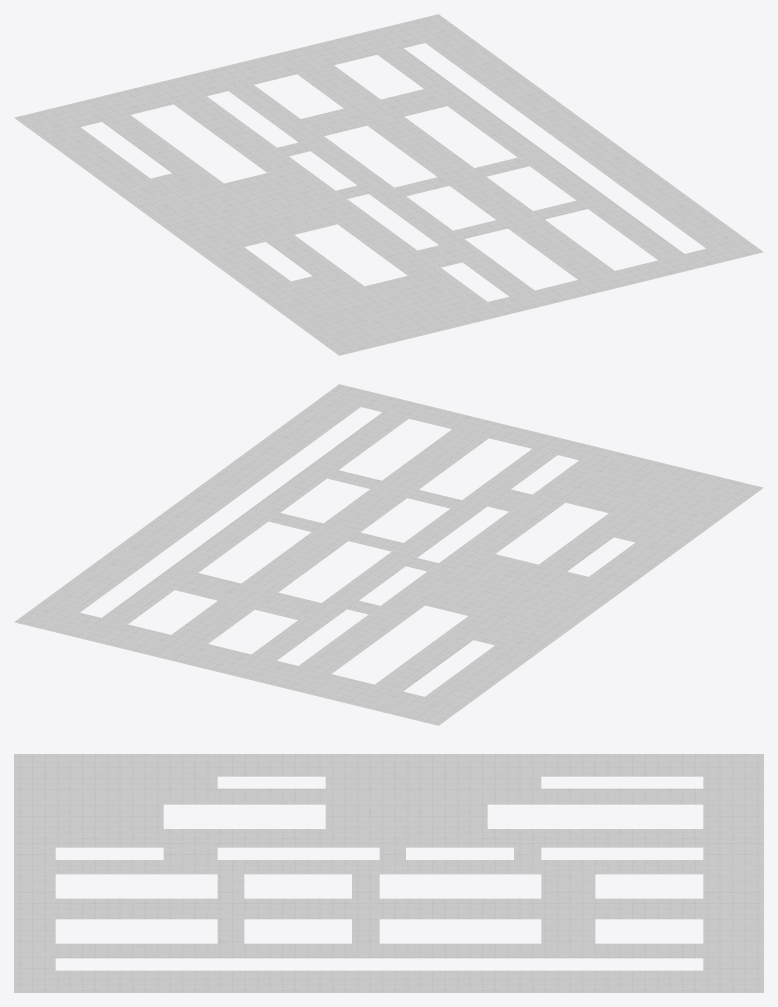
The model's file is Floor.glb.
3 views of the same model, one above another, from view 1: azimuth 30°, elevation 25°; view 2: azimuth 150°, elevation 25°; view 3: azimuth 270°, elevation 25° (orthographic). The views are drawn at different scales.
Visible parts, largest first — view 1: floor.001; view 2: floor.001; view 3: floor.001.
Part boxes in pixels (<box>): floor.001: <box>14,14,763,355</box>; floor.001: <box>14,384,763,725</box>; floor.001: <box>14,754,763,992</box>.
Bounding box in the file's own units: 57.54 × 0 × 76.36.
Materials: 1 (1 with a texture image).
